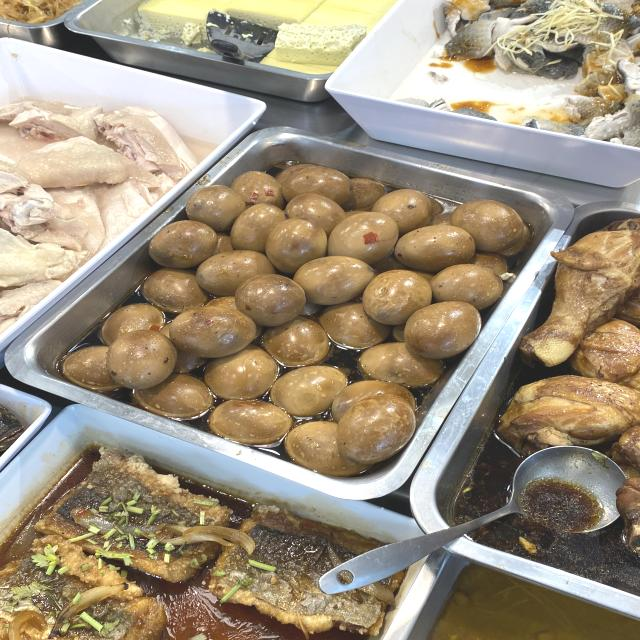braised egg: (171, 216, 432, 404)
